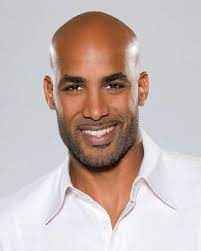person: (42, 10, 151, 173)
